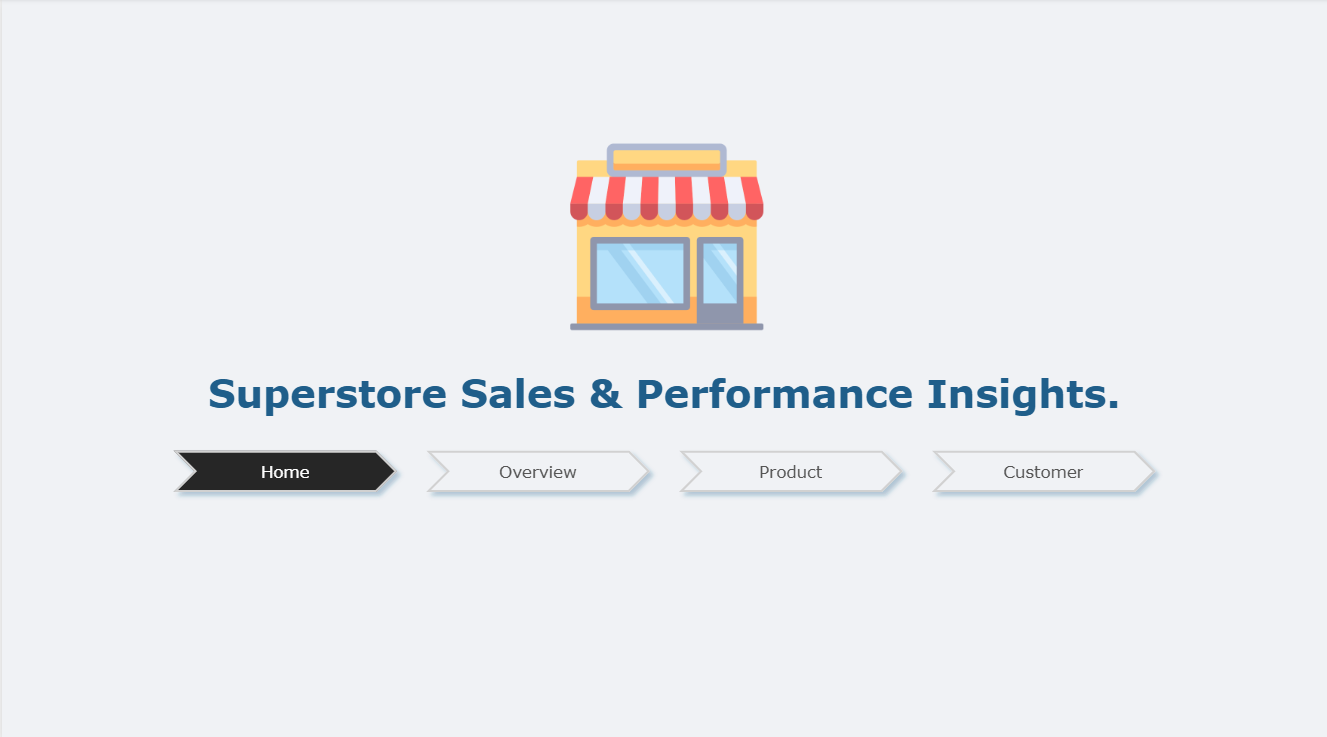

The dashboard page shown, as its layout file describes it:
{"tool":"powerbi","page":{"name":"Home","canvas":[1280,720],"ordinal":0},"visuals":[{"type":"image","box":[532.7,101.6,216.5,257.9],"z":0},{"type":"textbox","box":[76.9,358.8,1123.9,53.2],"z":1000},{"type":"pageNavigator","box":[141.2,412.2,999.5,88.5],"z":2000}]}

Visuals, with their boxes in screenshot pixels (x1, y1, x2, y2), scaled from the page's 1280x720 canvas onto the 1327x737 screenshot:
image: 552 104 777 368
textbox: 80 367 1245 422
pageNavigator: 146 422 1183 513
